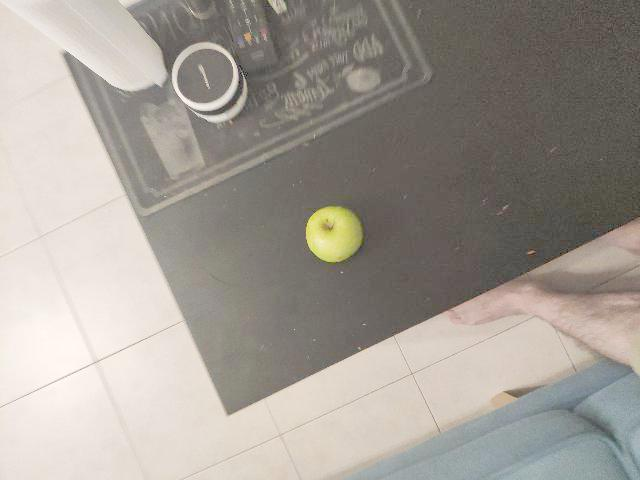apple: (209, 297, 274, 362)
